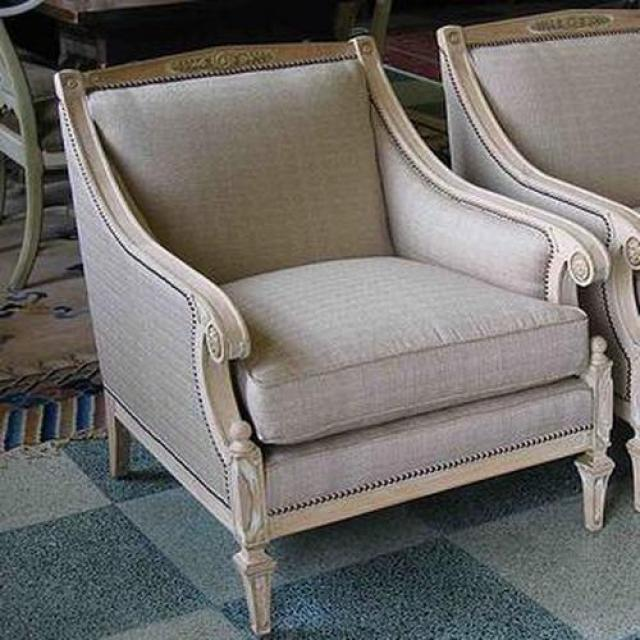sofa: (54, 26, 640, 640)
